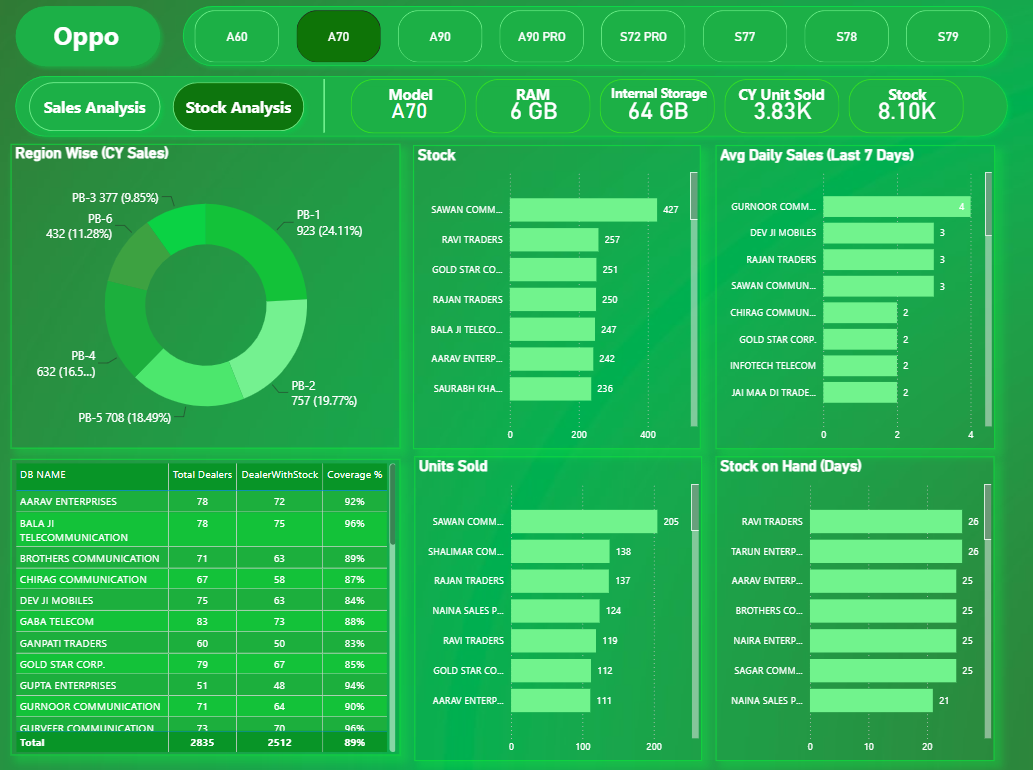

What the dashboard file says about the page in this screenshot:
{"tool":"powerbi","page":{"name":"Stock","canvas":[1280,980],"ordinal":1},"visuals":[{"type":"shape","title":"Amount/Qty_BG","box":[214.7,0,1064.7,94.1],"z":0},{"type":"shape","title":"Qppo","box":[1.6,0,202.1,94.5],"z":1000},{"type":"textbox","title":"Qoppo","box":[53.8,19.6,104.3,55.4],"z":5000},{"type":"shape","box":[1.7,88.2,1277.8,94.8],"z":6000},{"type":"shape","title":"Stock ANalysis","box":[201.3,96.5,184.7,79.9],"z":7000},{"type":"shape","title":"SalesAnalysis","box":[18.3,96.5,184.7,79.9],"z":8000},{"type":"shape","box":[377.7,101.5,49.9,68.2],"z":11000},{"type":"clusteredBarChart","title":"Avg Daily Sales (Last 7 Days)","fields":{"Y":["Measures-Stock.AvgSalesInLast7Days"],"Category":["Distributor.DB NAME"]},"box":[900,185.3,354.4,385.3],"z":15000},{"type":"clusteredBarChart","title":"Units Sold","fields":{"Y":["Measures-Stock.SalesQtyCurrentYear"],"Category":["Distributor.DB NAME"]},"box":[516.9,581.5,364.6,386.1],"z":19000},{"type":"clusteredBarChart","title":"Stock","fields":{"Category":["Distributor.DB NAME"],"Y":["Measures-Stock.Stock"]},"box":[516.2,185.3,364.7,385.3],"z":24000},{"type":"advancedSlicerVisual","title":"Slicer","fields":{"Values":["SKU.Model"]},"box":[233.8,8.8,1023.5,76.5],"z":25000},{"type":"cardVisual","title":"KPI_YTD","fields":{"Data":["Measures-Stock.Model_Name","Measures-Stock.RAM","Measures-Stock.ROM","Measures-Stock.SalesQtyCurrentYear","Measures-Stock.Stock"]},"box":[432.4,97.1,792.6,79.4],"z":26000},{"type":"textbox","box":[479.4,102.9,88.2,48.5],"z":27000},{"type":"textbox","box":[641.2,102.9,88.2,48.5],"z":28000},{"type":"textbox","box":[761.8,102.9,145.6,48.5],"z":29000},{"type":"textbox","box":[923.5,102.9,133.8,48.5],"z":30000},{"type":"textbox","box":[1113.2,102.9,104.4,48.5],"z":31000},{"type":"donutChart","title":"Region Wise (CY Sales)","fields":{"Y":["Measures-Stock.SalesQtyCurrentYear"],"Category":["Distributor.Region"]},"box":[5,184.7,494.2,386],"z":32000},{"type":"clusteredBarChart","title":"Stock on Hand (Days)","fields":{"Y":["Measures-Stock.Days on Hand"],"Category":["Distributor.DB NAME"]},"box":[900,581.5,353.9,386.1],"z":33000},{"type":"tableEx","title":"City Wise Sales Amount","fields":{"Values":["Distributor.DB NAME","Measures-Stock.Total Dealers","Measures-Stock.DealerWithStock","Measures-Stock.Coverage %"]},"box":[5,584,494.2,376],"z":34000}]}

Visuals, with their boxes in screenshot pixels (x1, y1, x2, y2), scaled from the page's 1280x980 canvas onto the 1033x770 screenshot:
"Amount/Qty_BG" shape: 173,0,1032,74
"Qppo" shape: 1,0,164,74
"Qoppo" textbox: 43,15,128,59
shape: 1,69,1032,144
"Stock ANalysis" shape: 162,76,312,139
"SalesAnalysis" shape: 15,76,164,139
shape: 305,80,345,133
"Avg Daily Sales (Last 7 Days)" clusteredBarChart: 726,146,1012,448
"Units Sold" clusteredBarChart: 417,457,711,760
"Stock" clusteredBarChart: 417,146,711,448
"Slicer" advancedSlicerVisual: 189,7,1015,67
"KPI_YTD" cardVisual: 349,76,989,139
textbox: 387,81,458,119
textbox: 517,81,589,119
textbox: 615,81,732,119
textbox: 745,81,853,119
textbox: 898,81,983,119
"Region Wise (CY Sales)" donutChart: 4,145,403,448
"Stock on Hand (Days)" clusteredBarChart: 726,457,1012,760
"City Wise Sales Amount" tableEx: 4,459,403,754
